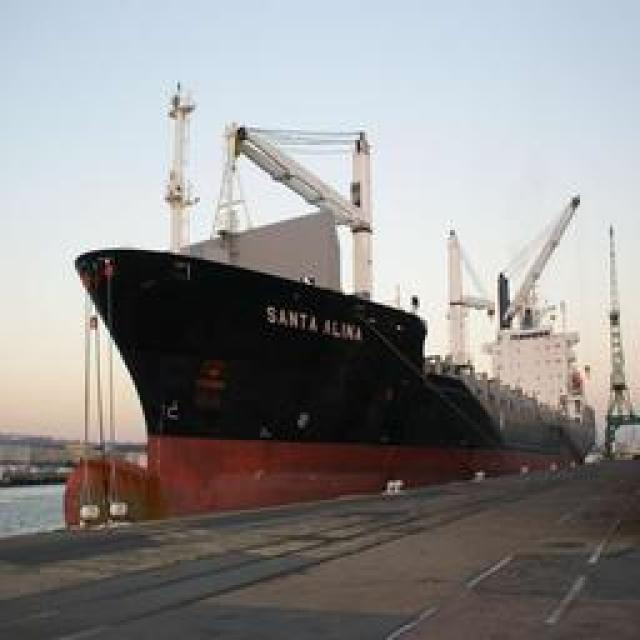ship2: (72, 92, 600, 521)
